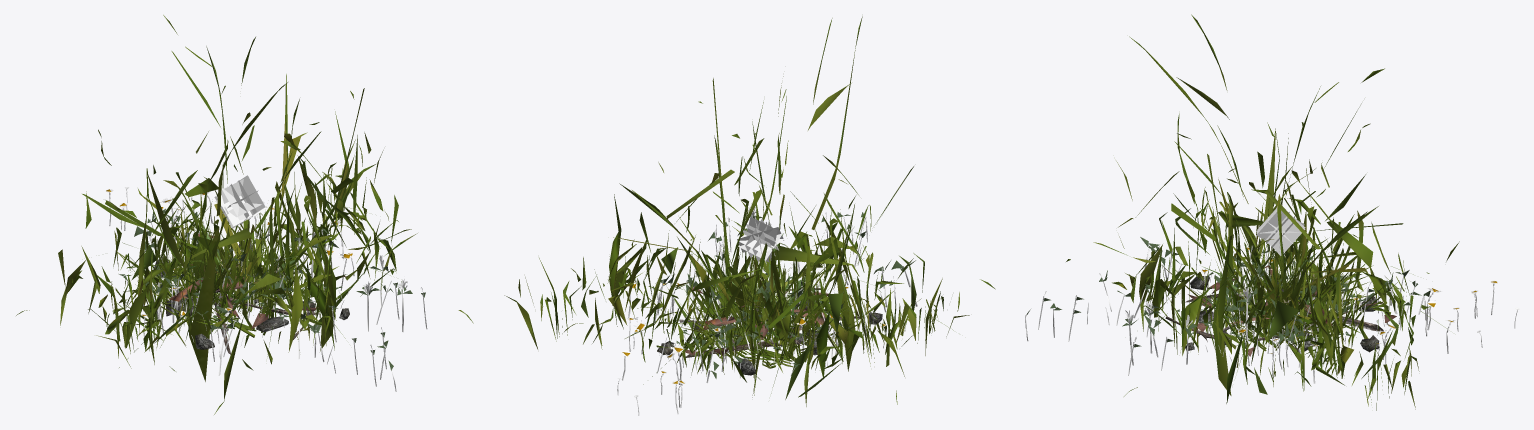
Rendered from prado.glb.
3 renders of one model, left to right at view 1: azimuth 30°, elevation 25°; view 2: azimuth 150°, elevation 25°; view 3: azimuth 270°, elevation 25°, orthographic. The views are drawn at different scales.
Parts seen in each view (by area): view 1: sc_grass_dry_01_high, sc_grass_wild_clump_dry_01_high, sc_grass_wild_clump_02_high.002, sc_clovers_03_high, sc_grass_clump_03_high, sc_dandelion_01_high, sc_wasteland_gravel_01_high.001, sc_daisies_high, sc_clovers_01_high, sc_leaves_01_high, sc_wasteland_branches_01_high.001; view 2: sc_grass_dry_01_high, sc_grass_wild_clump_dry_01_high, sc_grass_wild_clump_02_high.002, sc_clovers_03_high, sc_grass_clump_03_high, sc_dandelion_01_high, sc_daisies_high, sc_clovers_01_high, sc_wasteland_gravel_01_high.001, sc_leaves_01_high, sc_wasteland_branches_01_high.001; view 3: sc_grass_dry_01_high, sc_grass_wild_clump_dry_01_high, sc_grass_wild_clump_02_high.002, sc_clovers_03_high, sc_grass_clump_03_high, sc_dandelion_01_high, sc_daisies_high, sc_clovers_01_high, sc_wasteland_gravel_01_high.001, sc_wasteland_branches_01_high.001, sc_leaves_01_high.
Part boxes in pixels (x1,y1,x2,y2): sc_grass_dry_01_high: (58, 111, 398, 368); sc_grass_wild_clump_dry_01_high: (16, 15, 473, 414); sc_grass_wild_clump_02_high.002: (88, 158, 398, 371); sc_clovers_03_high: (134, 197, 427, 391); sc_grass_clump_03_high: (148, 214, 317, 332); sc_dandelion_01_high: (203, 175, 296, 312); sc_wasteland_gravel_01_high.001: (153, 240, 349, 349); sc_daisies_high: (106, 187, 354, 337); sc_clovers_01_high: (119, 244, 350, 345); sc_leaves_01_high: (168, 233, 346, 329); sc_wasteland_branches_01_high.001: (169, 273, 319, 354); sc_grass_dry_01_high: (504, 194, 969, 397); sc_grass_wild_clump_dry_01_high: (564, 16, 995, 406); sc_grass_wild_clump_02_high.002: (569, 223, 953, 399); sc_clovers_03_high: (653, 203, 917, 383); sc_grass_clump_03_high: (687, 251, 850, 365); sc_dandelion_01_high: (731, 215, 810, 336); sc_daisies_high: (617, 260, 885, 415); sc_clovers_01_high: (659, 276, 874, 376); sc_wasteland_gravel_01_high.001: (657, 296, 882, 375); sc_leaves_01_high: (685, 286, 839, 356); sc_wasteland_branches_01_high.001: (679, 288, 862, 357); sc_grass_dry_01_high: (1112, 133, 1459, 410); sc_grass_wild_clump_dry_01_high: (1066, 14, 1403, 406); sc_grass_wild_clump_02_high.002: (1141, 208, 1446, 402); sc_clovers_03_high: (1025, 237, 1430, 375); sc_grass_clump_03_high: (1197, 244, 1387, 364); sc_dandelion_01_high: (1202, 204, 1316, 327); sc_daisies_high: (1201, 247, 1519, 383); sc_clovers_01_high: (1177, 265, 1399, 361); sc_wasteland_gravel_01_high.001: (1185, 276, 1379, 352); sc_wasteland_branches_01_high.001: (1165, 287, 1383, 352); sc_leaves_01_high: (1188, 265, 1396, 356).
Bounding box in the file's own units: 0.8045 × 0.6999 × 0.9116.
15 materials, 11 textured.
